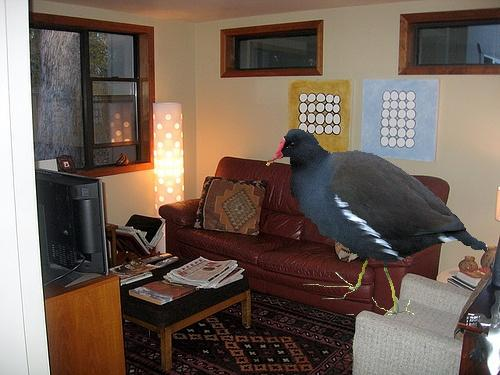tampered: (267, 130, 487, 315)
